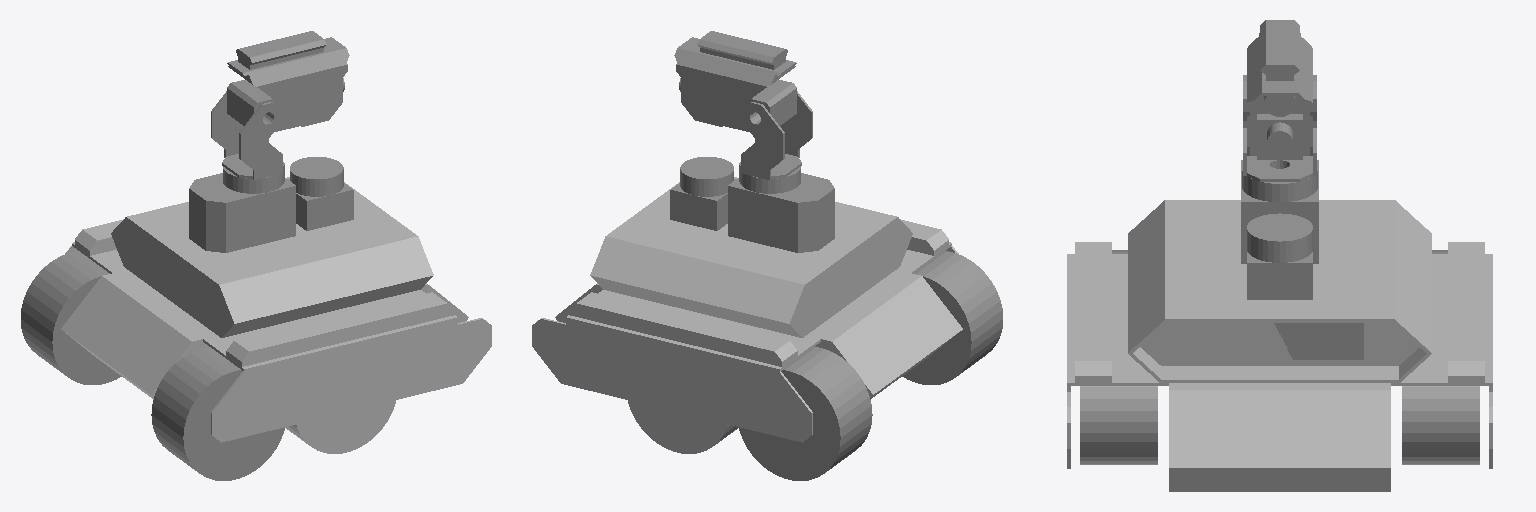
robot.urdf — ugv_rover:
<?xml version="1.0" ?>
<robot
  name="ugv_rover">
  <link name="base_footprint"></link>
  <link
    name="base_link">
    <inertial>
      <origin
        xyz="-0.000460087791654118 -6.50856019576702E-10 -0.0147959620149623"
        rpy="0 0 0" />
      <mass
        value="2.78375064359473" />
      <inertia
        ixx="0.00651567554169617"
        ixy="-5.86655425789789E-13"
        ixz="3.77886436056975E-05"
        iyy="0.00933991752413667"
        iyz="-2.53116742521487E-11"
        izz="0.0121583506563461" />
    </inertial>
    <visual>
      <origin
        xyz="0 0 0"
        rpy="0 0 0" />
      <geometry>
        <mesh
          filename="package://ugv_description/meshes/ugv_rover/base_link.stl" />
      </geometry>
      <material
        name="">
        <color
          rgba="0.752941176470588 0.752941176470588 0.752941176470588 1" />
      </material>
    </visual>
    <collision>
      <origin
        xyz="0 0 0"
        rpy="0 0 0" />
      <geometry>
        <mesh
          filename="package://ugv_description/meshes/ugv_rover/base_link.stl" />
      </geometry>
    </collision>
  </link>

  <joint name="base_joint" type="fixed">
    <parent link="base_footprint"/>
    <child link="base_link"/>
    <origin xyz="0.000460087791654118 6.50856019576702E-10 0.08" rpy="0 0 0"/> 
  </joint>
  
  <link name="base_imu_link"> 
      <origin xyz="0 0 0" rpy="0 0 0"/> 
  </link>
  
  <joint name="imu_joint" type="fixed">
      <parent link="base_link" />
      <child link="base_imu_link" />
      <origin xyz="0 0 0" rpy="0 0 0"/>
  </joint>

  <link
    name="left_up_wheel_link">
    <inertial>
      <origin
        xyz="1.38777878078145E-17 1.38777878078145E-17 0"
        rpy="1.5708 0 0" />
      <mass
        value="0.207085933743005" />
      <inertia
        ixx="0.000116541923504163"
        ixy="-1.59309191113245E-55"
        ixz="-3.43238458333891E-37"
        iyy="0.000170742352371108"
        iyz="-3.6165187302327E-37"
        izz="0.000116541923504163" />
    </inertial>
    <visual>
      <origin
        xyz="0 0 0"
        rpy="1.5708 0 0" />
      <geometry>
        <mesh
          filename="package://ugv_description/meshes/ugv_rover/left_up_wheel_link.stl" />
      </geometry>
      <material
        name="">
        <color
          rgba="0.627450980392157 0.627450980392157 0.627450980392157 1" />
      </material>
    </visual>
    <collision>
      <origin
        xyz="0 0 0"
        rpy="1.5708 0 0" />
      <geometry>
        <mesh
          filename="package://ugv_description/meshes/ugv_rover/left_up_wheel_link.stl" />
      </geometry>
    </collision>
  </link>
  <joint
    name="left_up_wheel_link_joint"
    type="continuous">
    <origin
      xyz="0.0855 0.08726 -0.041212"
      rpy="1.5708 0 0" />
    <parent
      link="base_link" />
    <child
      link="left_up_wheel_link" />
    <axis
      xyz="0 0 -1" />
  </joint>
  <link
    name="left_down_wheel_link">
    <inertial>
      <origin
        xyz="0 1.38777878078145E-17 0"
        rpy="1.5708 0 0" />
      <mass
        value="0.207085933743005" />
      <inertia
        ixx="0.000116541923504163"
        ixy="-1.59309191113245E-55"
        ixz="-3.43238458333891E-37"
        iyy="0.000170742352371108"
        iyz="-3.6165187302327E-37"
        izz="0.000116541923504163" />
    </inertial>
    <visual>
      <origin
        xyz="0 0 0"
        rpy="1.5708 0 0" />
      <geometry>
        <mesh
          filename="package://ugv_description/meshes/ugv_rover/left_down_wheel_link.stl" />
      </geometry>
      <material
        name="">
        <color
          rgba="0.627450980392157 0.627450980392157 0.627450980392157 1" />
      </material>
    </visual>
    <collision>
      <origin
        xyz="0 0 0"
        rpy="1.5708 0 0" />
      <geometry>
        <mesh
          filename="package://ugv_description/meshes/ugv_rover/left_down_wheel_link.stl" />
      </geometry>
    </collision>
  </link>
  <joint
    name="left_down_wheel_link_joint"
    type="continuous">
    <origin
      xyz="-0.0854999999999981 0.0872599990000038 -0.0412119912691592"
      rpy="1.5708 0 0" />
    <parent
      link="base_link" />
    <child
      link="left_down_wheel_link" />
    <axis
      xyz="0 0 -1" />
  </joint>
  <link
    name="right_up_wheel_link">
    <inertial>
      <origin
        xyz="1.38777878078145E-17 -1.38777878078145E-17 0"
        rpy="1.5708 0 0" />
      <mass
        value="0.207085933743005" />
      <inertia
        ixx="0.000116541923504163"
        ixy="-1.59309191113245E-55"
        ixz="-3.43238458333891E-37"
        iyy="0.000170742352371108"
        iyz="-3.6165187302327E-37"
        izz="0.000116541923504163" />
    </inertial>
    <visual>
      <origin
        xyz="0 0 0"
        rpy="1.5708 0 0" />
      <geometry>
        <mesh
          filename="package://ugv_description/meshes/ugv_rover/right_up_wheel_link.stl" />
      </geometry>
      <material
        name="">
        <color
          rgba="0.627450980392157 0.627450980392157 0.627450980392157 1" />
      </material>
    </visual>
    <collision>
      <origin
        xyz="0 0 0"
        rpy="1.5708 0 0" />
      <geometry>
        <mesh
          filename="package://ugv_description/meshes/ugv_rover/right_up_wheel_link.stl" />
      </geometry>
    </collision>
  </link>
  <joint
    name="right_up_wheel_link_joint"
    type="continuous">
    <origin
      xyz="0.0854999999999989 -0.0872600009999962 -0.0412119912691588"
      rpy="1.5708 0 0" />
    <parent
      link="base_link" />
    <child
      link="right_up_wheel_link" />
    <axis
      xyz="0 0 -1" />
  </joint>
  <link
    name="right_down_wheel_link">
    <inertial>
      <origin
        xyz="0 -1.38777878078145E-17 0"
        rpy="1.5708 0 0" />
      <mass
        value="0.207085933743005" />
      <inertia
        ixx="0.000116541923504163"
        ixy="-1.59309191113245E-55"
        ixz="-3.43238458333891E-37"
        iyy="0.000170742352371108"
        iyz="-3.6165187302327E-37"
        izz="0.000116541923504163" />
    </inertial>
    <visual>
      <origin
        xyz="0 0 0"
        rpy="1.5708 0 0" />
      <geometry>
        <mesh
          filename="package://ugv_description/meshes/ugv_rover/right_down_wheel_link.stl" />
      </geometry>
      <material
        name="">
        <color
          rgba="0.627450980392157 0.627450980392157 0.627450980392157 1" />
      </material>
    </visual>
    <collision>
      <origin
        xyz="0 0 0"
        rpy="1.5708 0 0" />
      <geometry>
        <mesh
          filename="package://ugv_description/meshes/ugv_rover/right_down_wheel_link.stl" />
      </geometry>
    </collision>
  </link>
  <joint
    name="right_down_wheel_link_joint"
    type="continuous">
    <origin
      xyz="-0.0854999999999981 -0.0872600009999962 -0.0412119912691594"
      rpy="1.5708 0 0" />
    <parent
      link="base_link" />
    <child
      link="right_down_wheel_link" />
    <axis
      xyz="0 0 -1" />
  </joint>
  <link
    name="3d_camera_link">
    <inertial>
      <origin
        xyz="0.00849999999999999 -2.66785989545803E-18 0"
        rpy="1.5708 1.5708 0" />
      <mass
        value="0.043316" />
      <inertia
        ixx="3.27216283333333E-05"
        ixy="1.12259284465067E-22"
        ixz="-1.19114008207636E-22"
        iyy="3.87317233333333E-06"
        iyz="-2.37303626261453E-22"
        izz="3.09348433333333E-05" />
    </inertial>
    <visual>
      <origin
        xyz="0 0 0"
        rpy="1.5708 1.5708 0" />
      <geometry>
        <mesh
          filename="package://ugv_description/meshes/ugv_rover/3d_camera_link.stl" />
      </geometry>
      <material
        name="">
        <color
          rgba="0.627450980392157 0.627450980392157 0.627450980392157 1" />
      </material>
    </visual>
    <collision>
      <origin
        xyz="0 0 0"
        rpy="1.5708 1.5708 0" />
      <geometry>
        <mesh
          filename="package://ugv_description/meshes/ugv_rover/3d_camera_link.stl" />
      </geometry>
    </collision>
  </link>

  <joint
    name="3d_camera_link_joint"
    type="fixed">
    <origin
      xyz="0.06531 0 0.021953"
      rpy="-1.5708 0 -1.5708" />
    <parent
      link="base_link" />
    <child
      link="3d_camera_link" />
    <axis
      xyz="0 0 0" />
  </joint>
  
  <link
    name="base_lidar_link">
    <inertial>
      <origin
        xyz="-6.93889390390723E-18 -1.81372359302323E-18 0.0165546434494574"
        rpy="0 0 0" />
      <mass
        value="0.0418000091653573" />
      <inertia
        ixx="8.26853377699878E-06"
        ixy="-2.32283058129169E-22"
        ixz="-3.51417304718746E-22"
        iyy="8.26853377699876E-06"
        iyz="2.66754484573224E-23"
        izz="8.32524607487378E-06" />
    </inertial>
    <visual>
      <origin
        xyz="0 0 0"
        rpy="0 0 0" />
      <geometry>
        <mesh
          filename="package://ugv_description/meshes/ugv_rover/base_lidar_link.stl" />
      </geometry>
      <material
        name="">
        <color
          rgba="0.627450980392157 0.627450980392157 0.627450980392157 1" />
      </material>
    </visual>
    <collision>
      <origin
        xyz="0 0 0"
        rpy="0 0 0" />
      <geometry>
        <mesh
          filename="package://ugv_description/meshes/ugv_rover/base_lidar_link.stl" />
      </geometry>
    </collision>
  </link>
  <joint
    name="base_lidar_link_joint"
    type="fixed">
    <origin
      xyz="0.0398145505519817 0 0.04"
      rpy="0 0 0" />
    <parent
      link="base_link" />
    <child
      link="base_lidar_link" />
    <axis
      xyz="0 0 0" />
  </joint>
  <link
    name="pt_base_link">
    <inertial>
      <origin
        xyz="0.00127554206615719 2.80272572267171E-15 0.0215158687368638"
        rpy="0 0 0" />
      <mass
        value="0.109518186442022" />
      <inertia
        ixx="3.30168147078049E-05"
        ixy="-2.724587071518E-18"
        ixz="-2.93137934608679E-06"
        iyy="5.1580984319637E-05"
        iyz="-6.32568066032632E-18"
        izz="4.86101329827052E-05" />
    </inertial>
    <visual>
      <origin
        xyz="0 0 0"
        rpy="0 0 0" />
      <geometry>
        <mesh
          filename="package://ugv_description/meshes/ugv_rover/pt_base_link.stl" />
      </geometry>
      <material
        name="">
        <color
          rgba="0.627450980392157 0.627450980392157 0.627450980392157 1" />
      </material>
    </visual>
    <collision>
      <origin
        xyz="0 0 0"
        rpy="0 0 0" />
      <geometry>
        <mesh
          filename="package://ugv_description/meshes/ugv_rover/pt_base_link.stl" />
      </geometry>
    </collision>
  </link>
  <joint
    name="pt_base_link_joint"
    type="fixed">
    <origin
      xyz="-0.018892 0 0.04"
      rpy="0 0 0" />
    <parent
      link="base_link" />
    <child
      link="pt_base_link" />
    <axis
      xyz="0 0 0" />
  </joint>
  <link
    name="pt_link1">
    <inertial>
      <origin
        xyz="-0.00338129216527271 1.0094878463484E-15 0.0176096758355074"
        rpy="0 0 0" />
      <mass
        value="0.00710917409663916" />
      <inertia
        ixx="3.89716322571471E-06"
        ixy="-3.20607036006508E-19"
        ixz="2.32919366130509E-07"
        iyy="2.4980668051168E-06"
        iyz="-2.87650001968868E-19"
        izz="2.60402792588347E-06" />
    </inertial>
    <visual>
      <origin
        xyz="0 0 0"
        rpy="0 0 0" />
      <geometry>
        <mesh
          filename="package://ugv_description/meshes/ugv_rover/pt_link1.stl" />
      </geometry>
      <material
        name="">
        <color
          rgba="0.627450980392157 0.627450980392157 0.627450980392157 1" />
      </material>
    </visual>
    <collision>
      <origin
        xyz="0 0 0"
        rpy="0 0 0" />
      <geometry>
        <mesh
          filename="package://ugv_description/meshes/ugv_rover/pt_link1.stl" />
      </geometry>
    </collision>
  </link>
  <joint
    name="pt_base_link_to_pt_link1"
    type="revolute">
    <origin
      xyz="0.010151 0 0.048"
      rpy="0 0 0" />
    <parent
      link="pt_base_link" />
    <child
      link="pt_link1" />
    <axis
      xyz="0 0 -1" />
    <limit
      lower="-3.14"
      upper="3.14"
      effort="0"
      velocity="0" />
  </joint>
  <link
    name="pt_link2">
    <inertial>
      <origin
        xyz="0.0218201278828439 0.0119590002643801 0.020000000000001"
        rpy="0 0 0" />
      <mass
        value="0.0970496053012515" />
      <inertia
        ixx="3.07158301509253E-05"
        ixy="-9.60865010663691E-07"
        ixz="-1.08689847044801E-19"
        iyy="3.74067734460566E-05"
        iyz="-1.7579899274055E-18"
        izz="4.94991610517831E-05" />
    </inertial>
    <visual>
      <origin
        xyz="0 0 0"
        rpy="0 0 0" />
      <geometry>
        <mesh
          filename="package://ugv_description/meshes/ugv_rover/pt_link2.stl" />
      </geometry>
      <material
        name="">
        <color
          rgba="0.627450980392157 0.627450980392157 0.627450980392157 1" />
      </material>
    </visual>
    <collision>
      <origin
        xyz="0 0 0"
        rpy="0 0 0" />
      <geometry>
        <mesh
          filename="package://ugv_description/meshes/ugv_rover/pt_link2.stl" />
      </geometry>
    </collision>
  </link>
  <joint
    name="pt_link1_to_pt_link2"
    type="revolute">
    <origin
      xyz="0 0.02 0.043003"
      rpy="1.5708 0 0" />
    <parent
      link="pt_link1" />
    <child
      link="pt_link2" />
    <axis
      xyz="0 0 1" />
    <limit
      lower="-0.5233333"
      upper="1.5707963"
      effort="0"
      velocity="0" />
  </joint>
  <link
    name="pt_camera_link">
    <inertial>
      <origin
        xyz="0.00630730338217479 -7.90865732935165E-18 0.000950308188413934"
        rpy="0 -1.5708 1.5708" />
      <mass
        value="0.00623651844028495" />
      <inertia
        ixx="5.11295942352593E-07"
        ixy="3.46495200123478E-22"
        ixz="-4.00917493406375E-08"
        iyy="3.99078324787848E-07"
        iyz="1.31404415819798E-22"
        izz="4.02518684222241E-07" />
    </inertial>
    <visual>
      <origin
        xyz="0 0 0"
        rpy="0 -1.5708 1.5708" />
      <geometry>
        <mesh
          filename="package://ugv_description/meshes/ugv_rover/pt_camera_link.stl" />
      </geometry>
      <material
        name="">
        <color
          rgba="0.627450980392157 0.627450980392157 0.627450980392157 1" />
      </material>
    </visual>
    <collision>
      <origin
        xyz="0 0 0"
        rpy="0 -1.5708 1.5708" />
      <geometry>
        <mesh
          filename="package://ugv_description/meshes/ugv_rover/pt_camera_link.stl" />
      </geometry>
    </collision>
  </link>
  <joint
    name="pt_link2_to_pt_camera_link"
    type="fixed">
    <origin
      xyz="0.047686 -0.000569 0.02"
      rpy="3.14 -1.5708 0" />
    <parent
      link="pt_link2" />
    <child
      link="pt_camera_link" />
    <axis
      xyz="0 0 0" />
  </joint>
  
</robot>

--- Facts derived from the render (not from the file) ---
The picture shows the robot from 3 angles, left to right: view 1: azimuth 30°, elevation 25°; view 2: azimuth 150°, elevation 25°; view 3: azimuth 270°, elevation 25°; orthographic projection.
Robot: ugv_rover — 13 links, 12 joints (2 revolute, 4 continuous, 6 fixed); root link base_footprint; default pose: all joints at 0.
Visible links, largest first — view 1: base_link, right_down_wheel_link, pt_link2, pt_base_link, left_down_wheel_link, pt_link1, base_lidar_link; view 2: base_link, left_down_wheel_link, pt_link2, pt_base_link, right_down_wheel_link, pt_link1, base_lidar_link; view 3: base_link, pt_link2, base_lidar_link, pt_base_link, 3d_camera_link, pt_link1, pt_camera_link.
Boxes of the visible links, <box> form: base_link: <box>61,177,491,453</box>; right_down_wheel_link: <box>151,347,284,480</box>; pt_link2: <box>227,31,349,131</box>; pt_base_link: <box>189,164,295,252</box>; left_down_wheel_link: <box>21,251,121,384</box>; pt_link1: <box>211,91,284,179</box>; base_lidar_link: <box>288,157,353,230</box>; base_link: <box>532,177,962,453</box>; left_down_wheel_link: <box>739,347,872,480</box>; pt_link2: <box>674,31,796,131</box>; pt_base_link: <box>728,164,834,252</box>; right_down_wheel_link: <box>902,251,1002,384</box>; pt_link1: <box>739,91,812,179</box>; base_lidar_link: <box>670,157,735,230</box>; base_link: <box>1067,200,1492,491</box>; pt_link2: <box>1247,20,1312,155</box>; base_lidar_link: <box>1247,213,1312,299</box>; pt_base_link: <box>1241,160,1318,263</box>; 3d_camera_link: <box>1274,323,1363,359</box>; pt_link1: <box>1243,75,1316,181</box>; pt_camera_link: <box>1257,114,1302,159</box>.
Size in the robot's own frame: 0.2481 by 0.2304 by 0.2536 metres.
Meshes: 11 distinct files referenced, 9 mesh visuals loaded (9 binary STL); not drawn: 2 (reference not matched to a file when rendering).